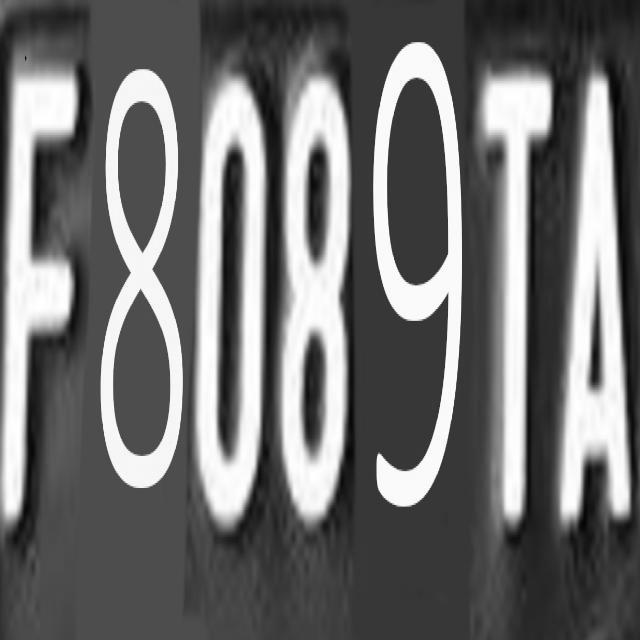0: (196, 68, 274, 533)
8: (86, 70, 186, 508), (273, 63, 359, 528)
9: (372, 30, 464, 522)
A: (545, 50, 640, 540)
F: (0, 50, 90, 545)
T: (473, 60, 557, 572)
